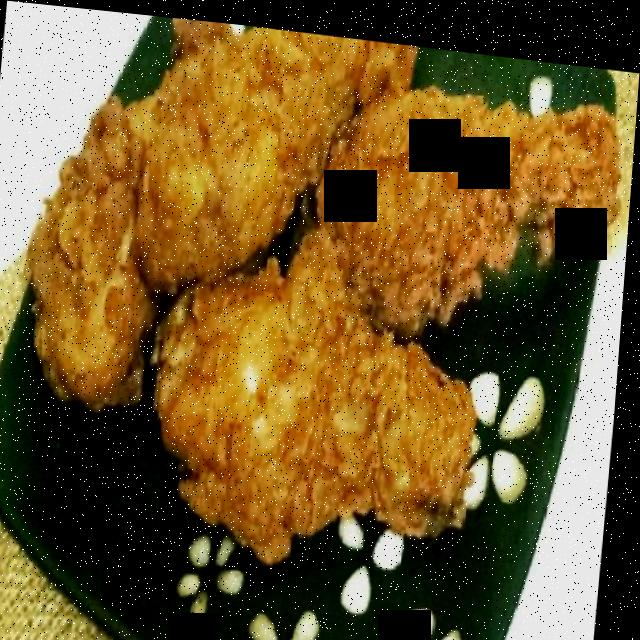Frango: (18, 3, 416, 429), (149, 242, 488, 564), (319, 43, 626, 345)
